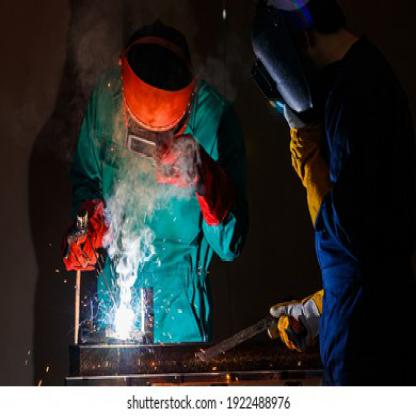with_gloves: (154, 132, 234, 228), (284, 107, 332, 230), (267, 288, 325, 355), (63, 198, 112, 274)
